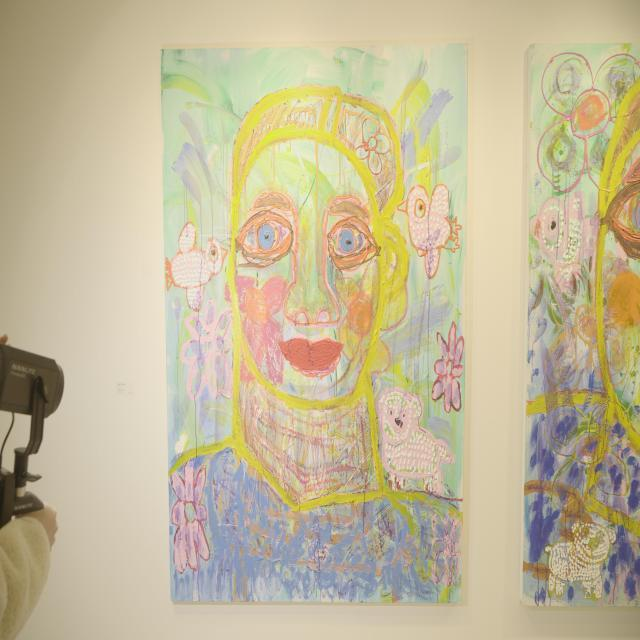painting: (161, 44, 467, 603), (523, 44, 640, 606)
